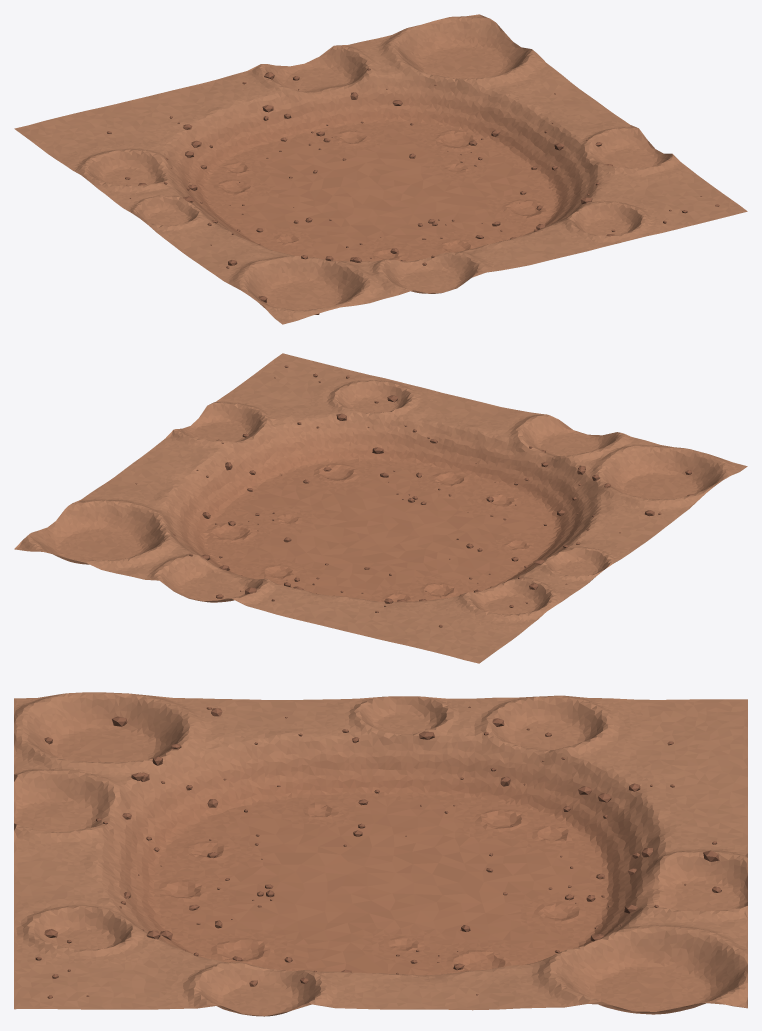
File: terreno.glb
The picture shows the model from 3 angles, top to bottom: view 1: azimuth 30°, elevation 25°; view 2: azimuth 150°, elevation 25°; view 3: azimuth 270°, elevation 25°; orthographic projection. The views are drawn at different scales.
Parts seen in each view (by area): view 1: Terreno, Rocas; view 2: Terreno, Rocas; view 3: Terreno, Rocas.
Part boxes in pixels (left/top/right/bottom): Terreno: left=14, top=14, right=747, bottom=324; Rocas: left=107, top=68, right=719, bottom=314; Terreno: left=14, top=353, right=747, bottom=663; Rocas: left=135, top=365, right=693, bottom=627; Terreno: left=14, top=692, right=747, bottom=1016; Rocas: left=35, top=706, right=721, bottom=998.
Size of the model in its own units: 255 by 18.22 by 255.
